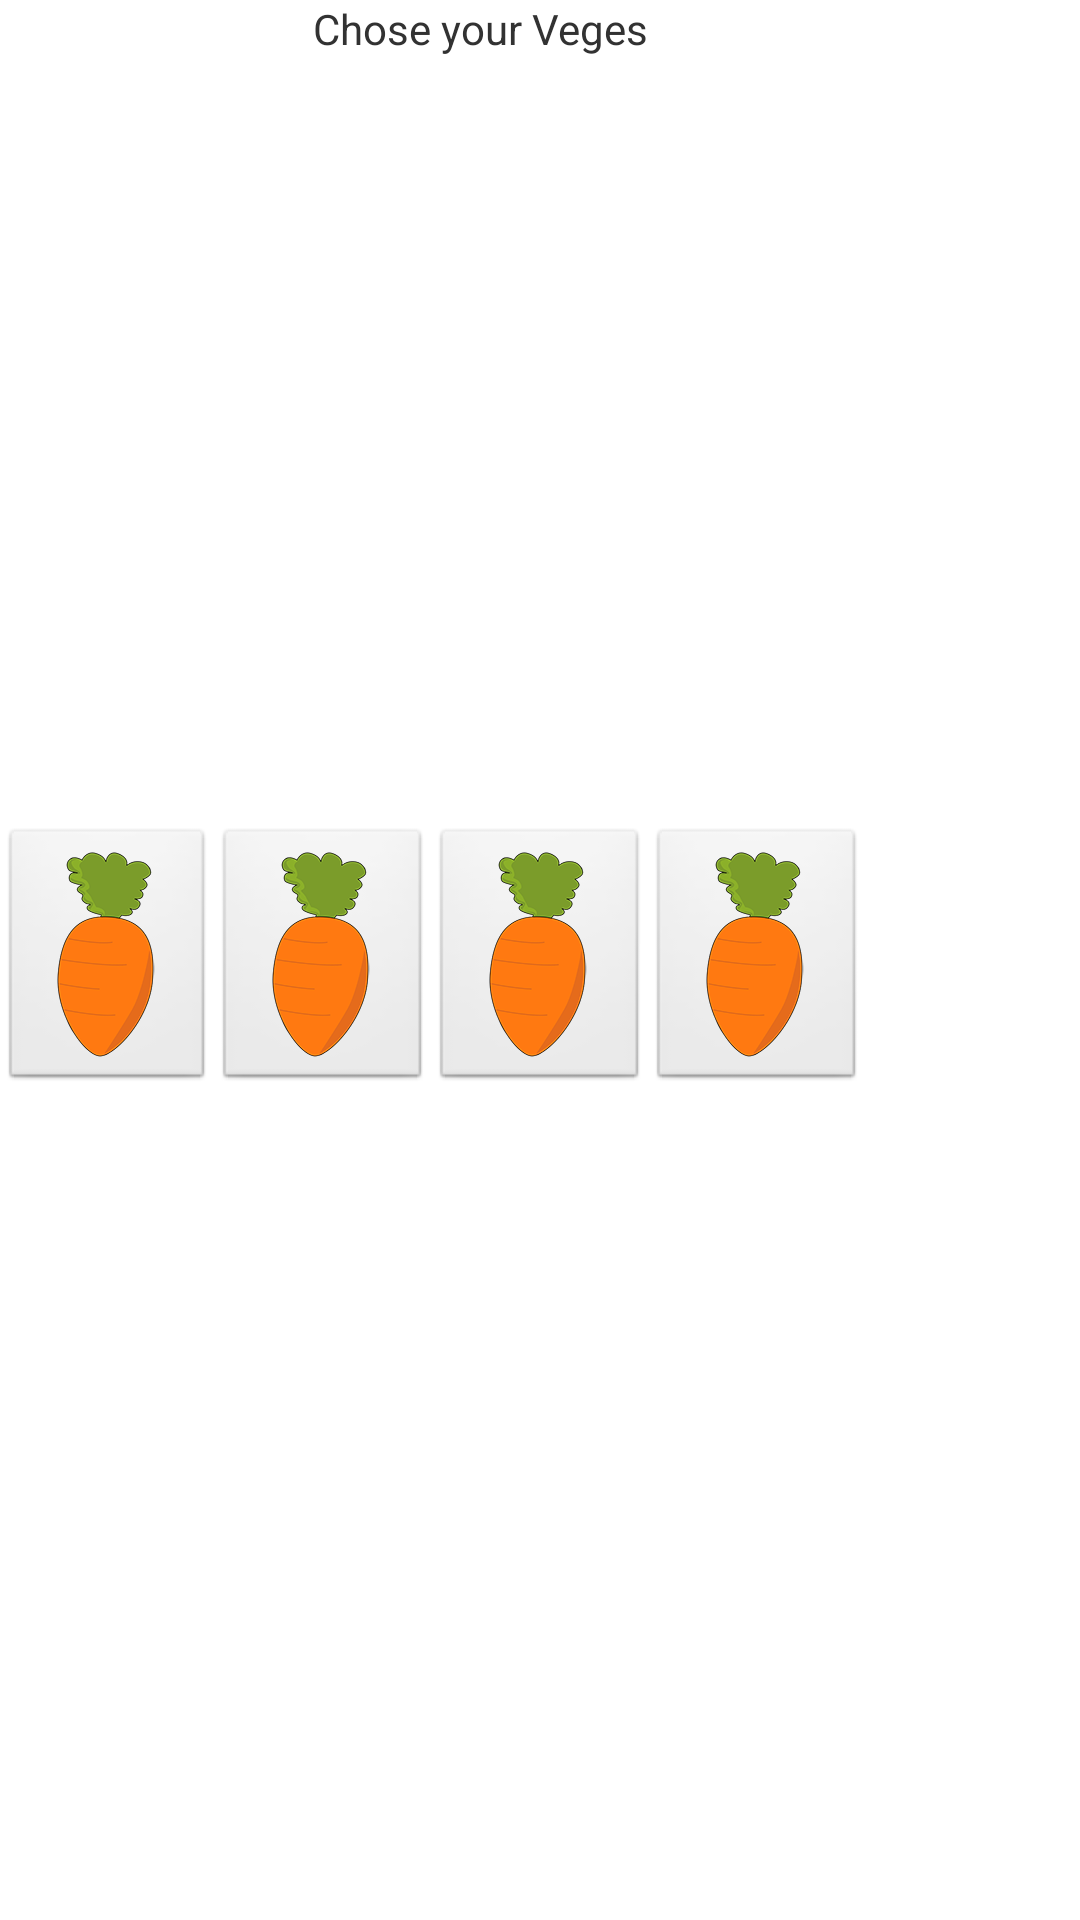

Point at icon controls on the screen. Image size 1080px x 1920px, points as [x,y].
carrot: [107,954], [322,954], [539,954], [756,954]
